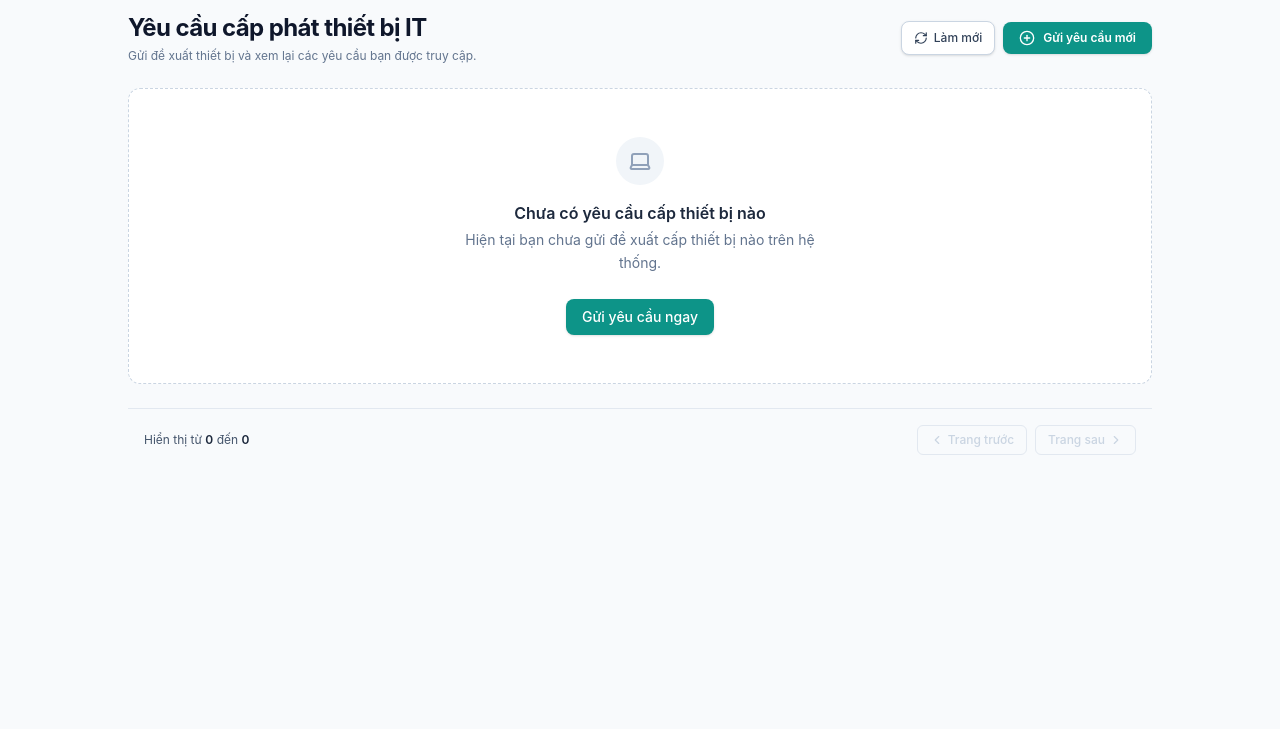
DeviceRequestPage Component › validates minimum reason length and integer quantity
Expected: the heading "Chưa có yêu cầu cấp thiết bị nào" is shown, [514,201,766,225]
Note: Open form
Click the button "Gửi yêu cầu ngay".
click(640, 316)  # box [566,298,714,334]
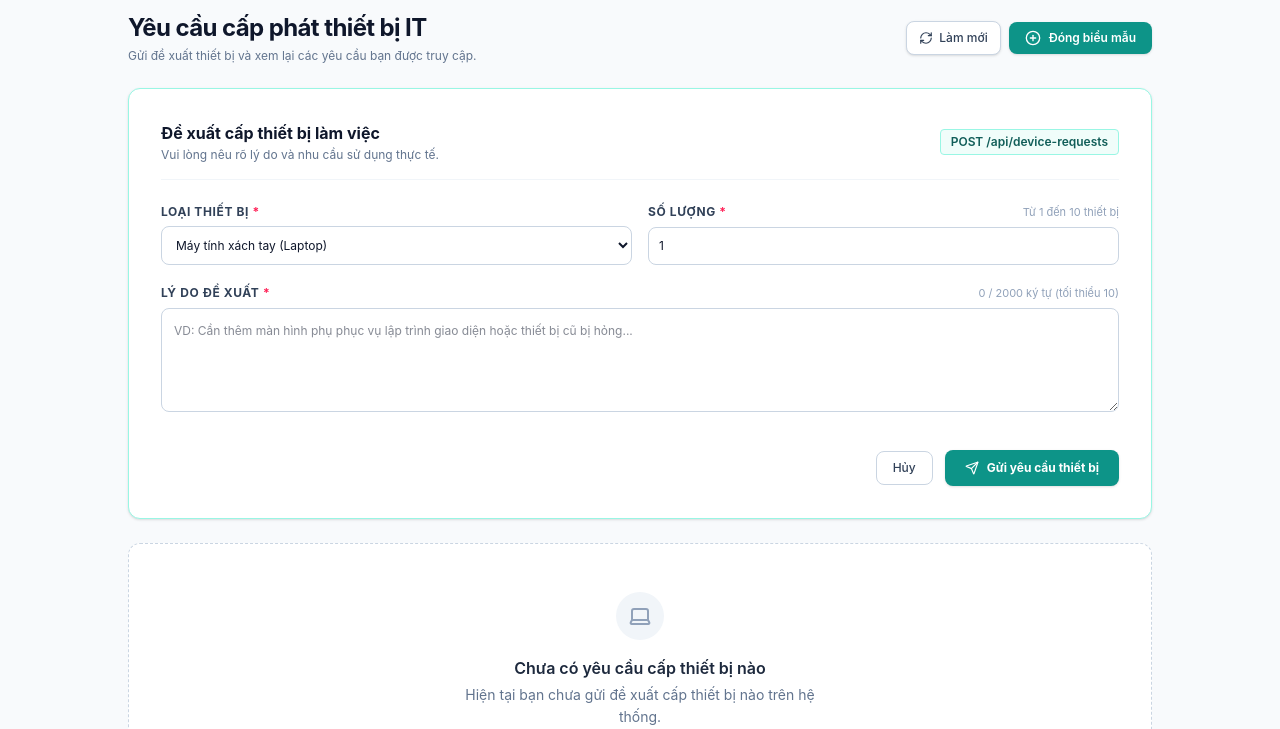
Replace the text in the text box labelled "Lý do đề xuất *" with "ngắn" at (640, 360), box [161,308,1119,412]
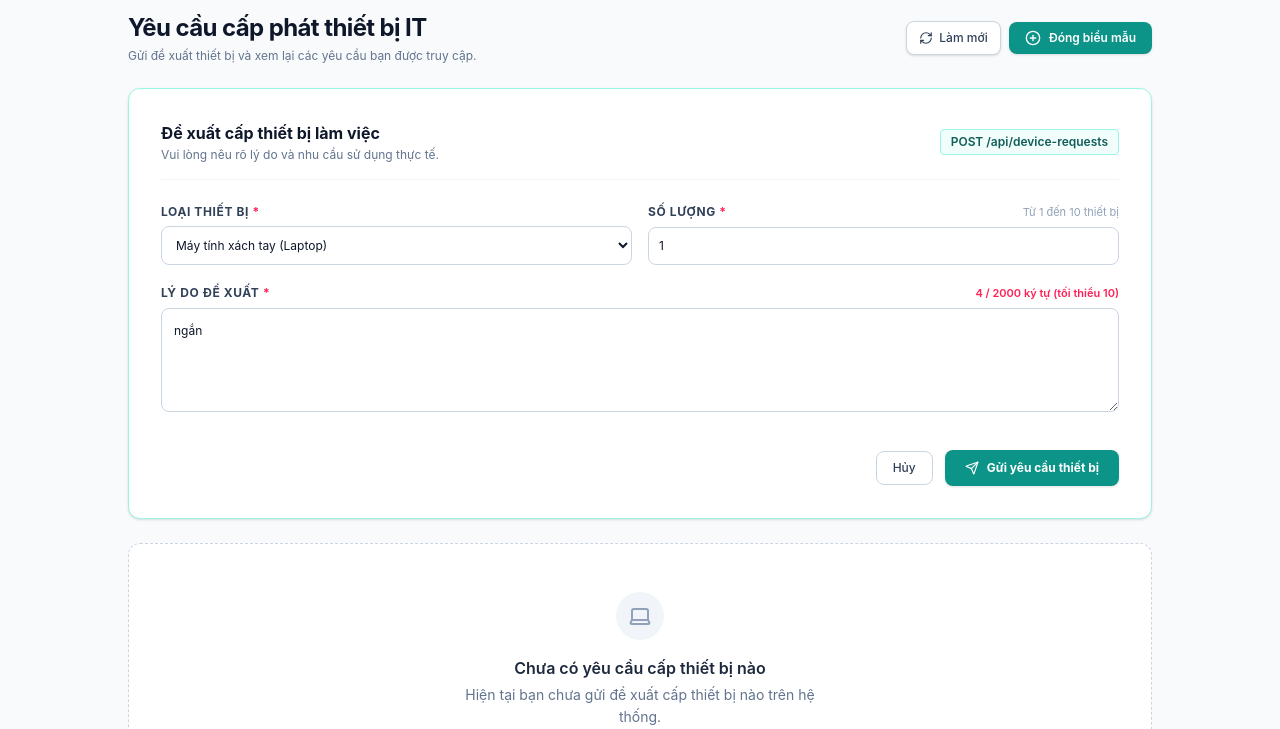
Click the button "Gửi yêu cầu thiết bị".
click(1032, 468)  # box [945,450,1119,486]
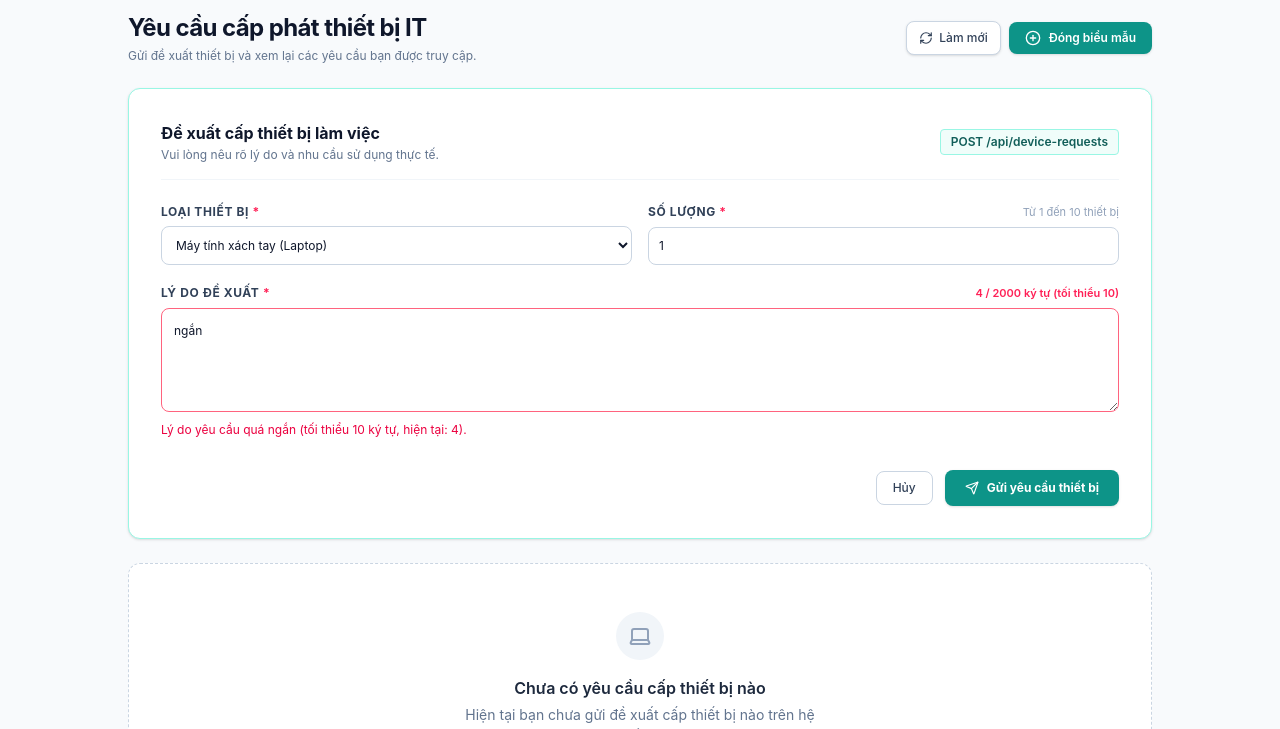
Expected: the text "Lý do yêu cầu quá ngắn (tối thiểu 10 ký tự, hiện tại: 4)." is shown, [161,422,467,436]
